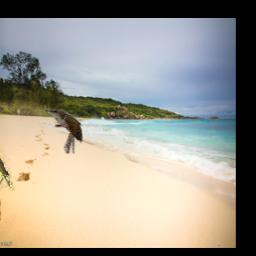Cuckoo: (44, 109, 82, 154), (0, 143, 14, 191)
